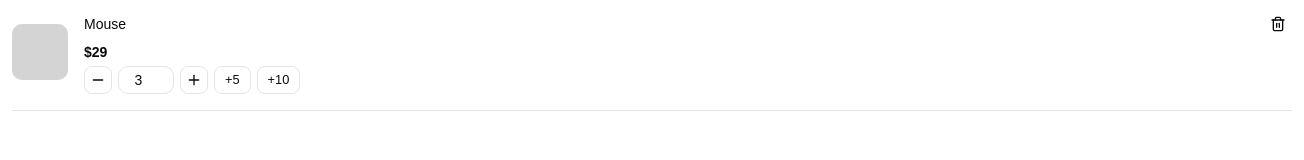
it: empty text goes back to the old quantity and removes nothing
The image size is (1304, 160).
Clear the number field named "Mouse quantity". click: (146, 80)
box: [118,66,174,94]
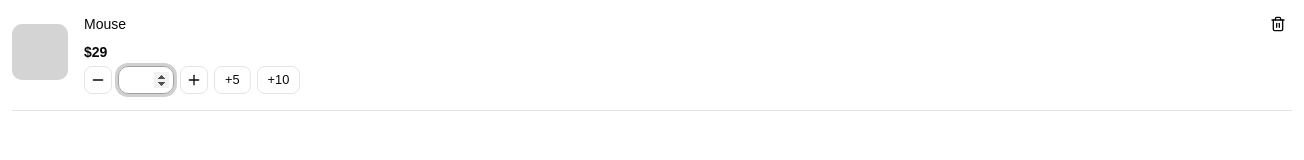
Press Tab
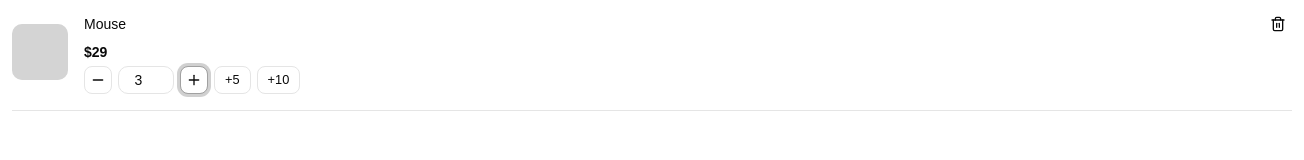
Check: the number field named "Mouse quantity" holds "3", box [118,66,174,94]
